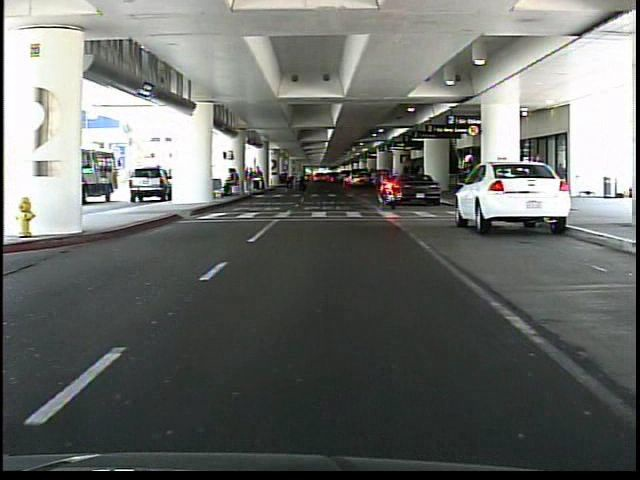person: (455, 151, 478, 226)
